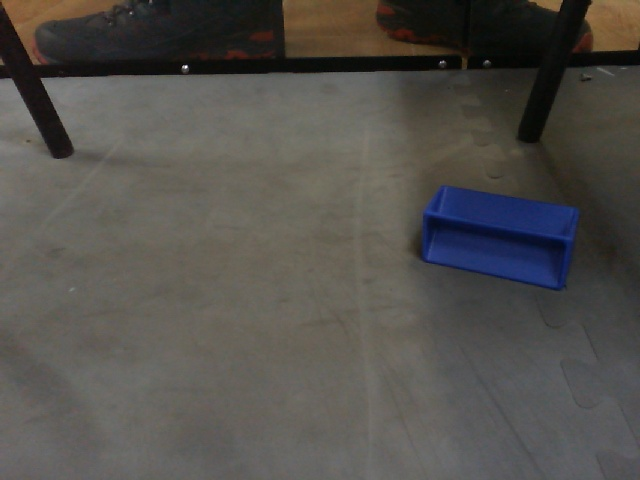BlueSample: (419, 181, 585, 300)
